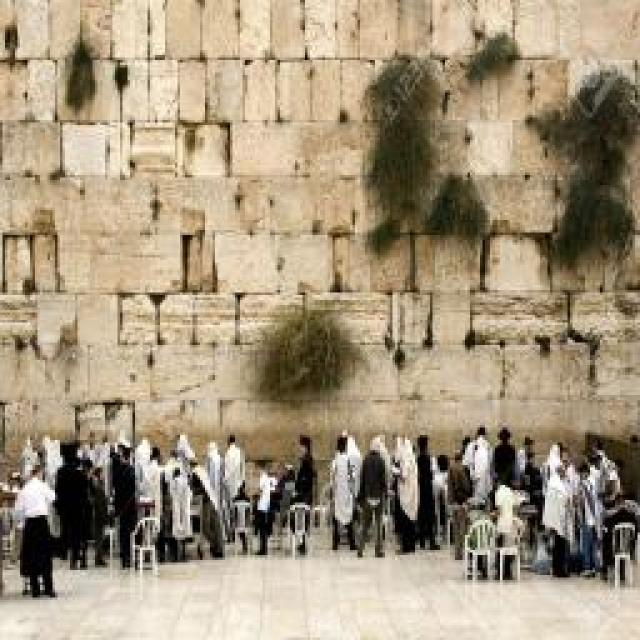Crack: (1, 0, 638, 472)
